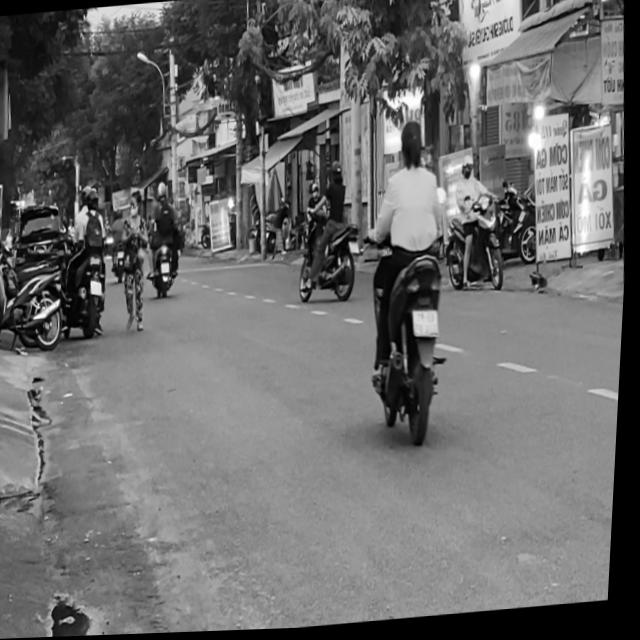helmet: (464, 154, 479, 182), (88, 188, 102, 214), (83, 185, 95, 208), (333, 162, 346, 183)
licenseplate: (356, 117, 469, 451), (295, 158, 369, 311), (444, 150, 515, 299), (55, 182, 117, 343)
motorcyclist: (399, 121, 429, 171)
nohelmet: (416, 312, 444, 339)
